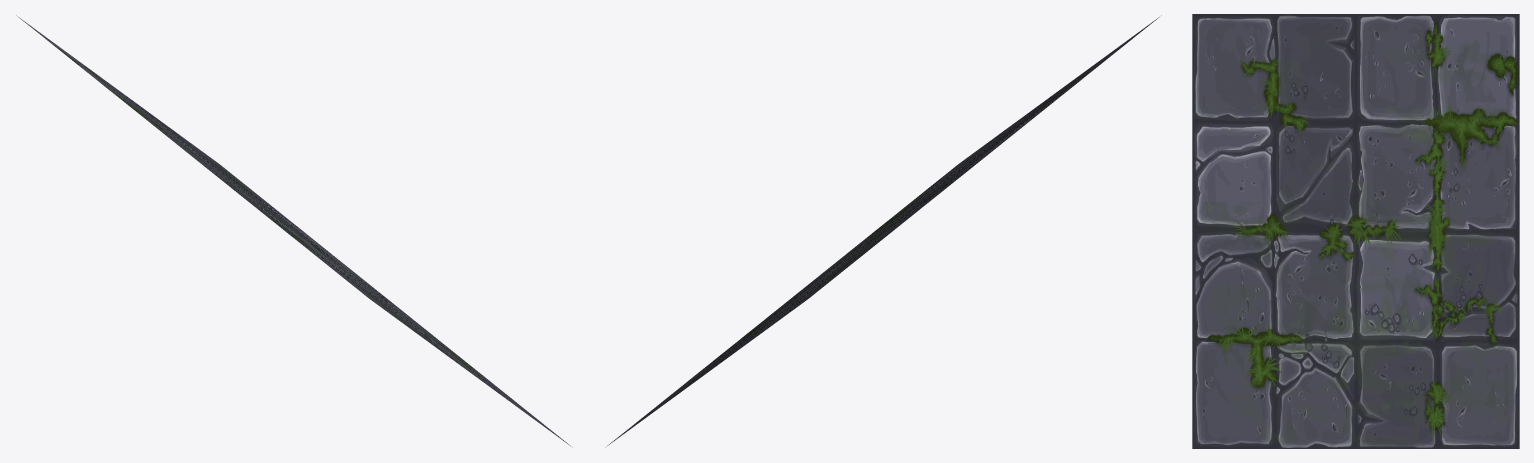
File: MOD_Stairs_01_BotCap_1.fbx
The picture shows the model from 3 angles, left to right: view 1: azimuth 30°, elevation 25°; view 2: azimuth 150°, elevation 25°; view 3: azimuth 270°, elevation 25°; orthographic projection. The views are drawn at different scales.
Visible parts, largest first — view 1: MOD_Stairs_01_BotCap_1; view 2: MOD_Stairs_01_BotCap_1; view 3: MOD_Stairs_01_BotCap_1.
Boxes of the visible parts, <box> form: MOD_Stairs_01_BotCap_1: <box>16,15,572,447</box>; MOD_Stairs_01_BotCap_1: <box>605,15,1161,447</box>; MOD_Stairs_01_BotCap_1: <box>1192,14,1519,448</box>.
Bounding box in the file's own units: 400 × 400 × 400.
